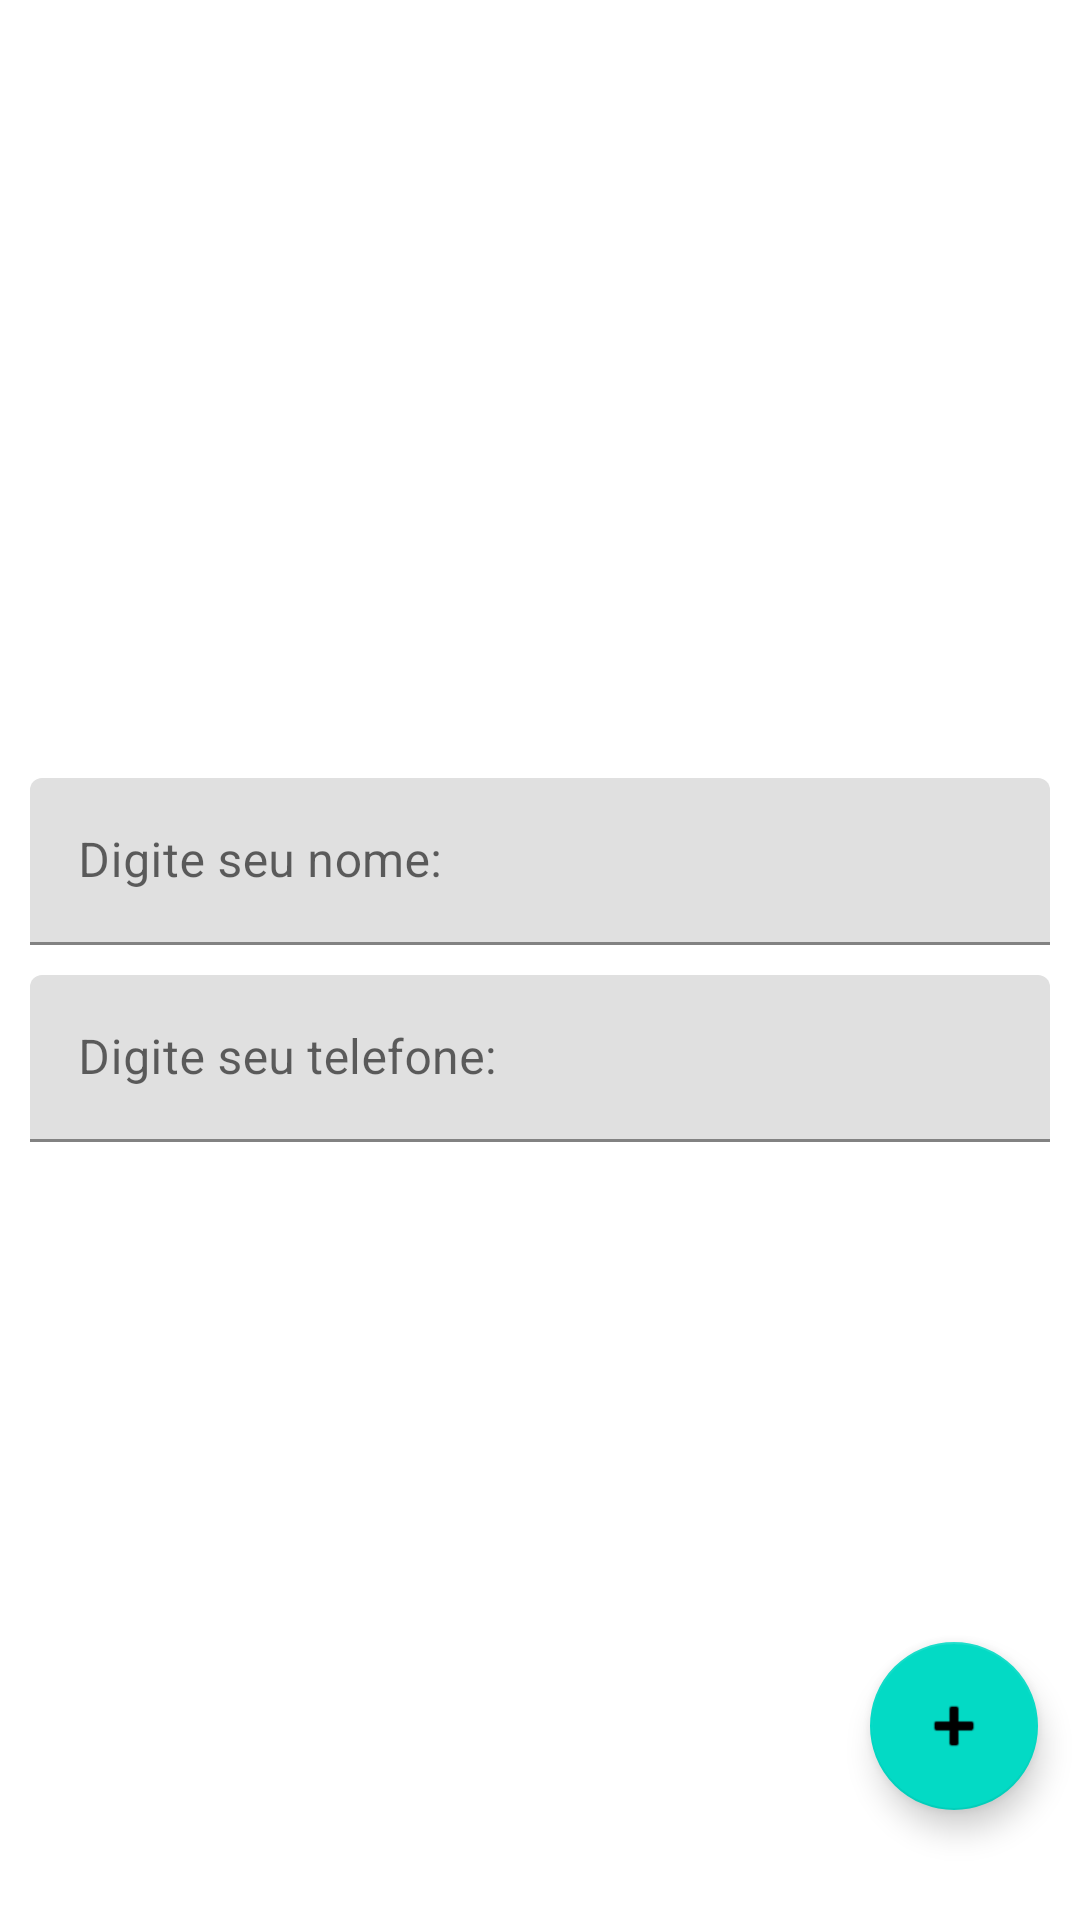

Point at icon controls on the screen. Image size 1080x1920, points as [x,y].
add: [954,1726]
